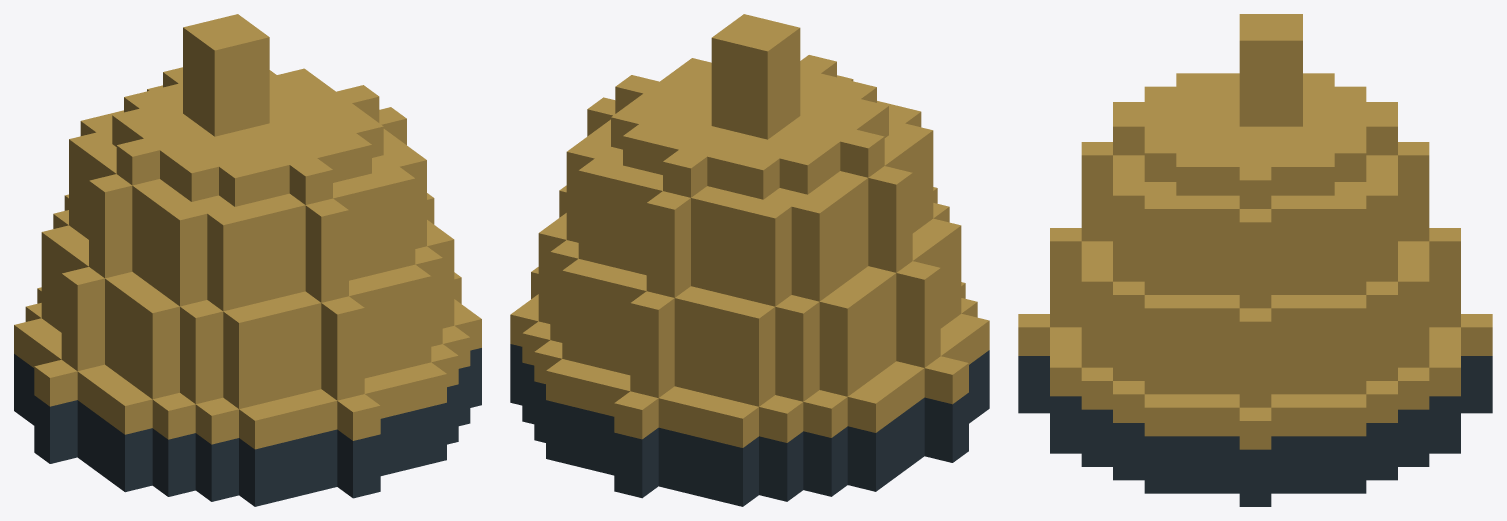
File: hospitality-01.glb
The picture shows the model from 3 angles, left to right: view 1: azimuth 30°, elevation 25°; view 2: azimuth 150°, elevation 25°; view 3: azimuth 270°, elevation 25°; orthographic projection. The views are drawn at different scales.
Visible parts, largest first — view 1: Reception bell; view 2: Reception bell; view 3: Reception bell.
Boxes of the visible parts, x1,y1,x2,y2 form: Reception bell: (14, 14, 481, 506); Reception bell: (510, 14, 989, 506); Reception bell: (1018, 14, 1492, 506).
Size of the model in its own units: 1.2 by 1.04 by 1.2.
